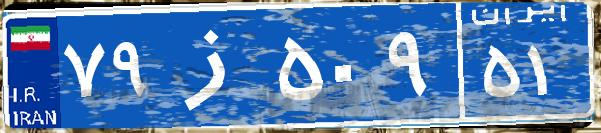0: (330, 28, 385, 110)
1: (525, 38, 570, 115)
5: (273, 28, 330, 110), (475, 38, 525, 113)
7: (57, 26, 110, 107)
9: (385, 28, 445, 110), (110, 28, 158, 105)
ز: (158, 15, 273, 115)
